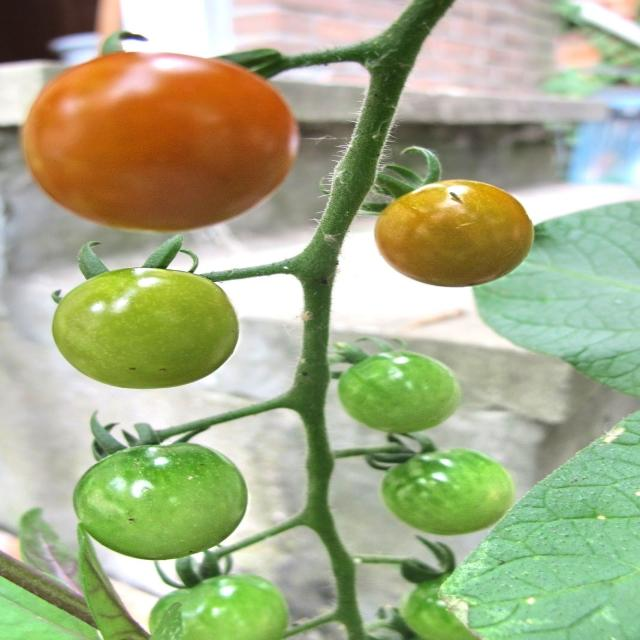level 2: (70, 442, 246, 558), (404, 560, 549, 640), (380, 450, 511, 536), (148, 572, 291, 640), (342, 351, 460, 432)
level 3: (54, 267, 241, 387)
level 4: (374, 179, 532, 287)
level 5: (24, 52, 300, 225)
